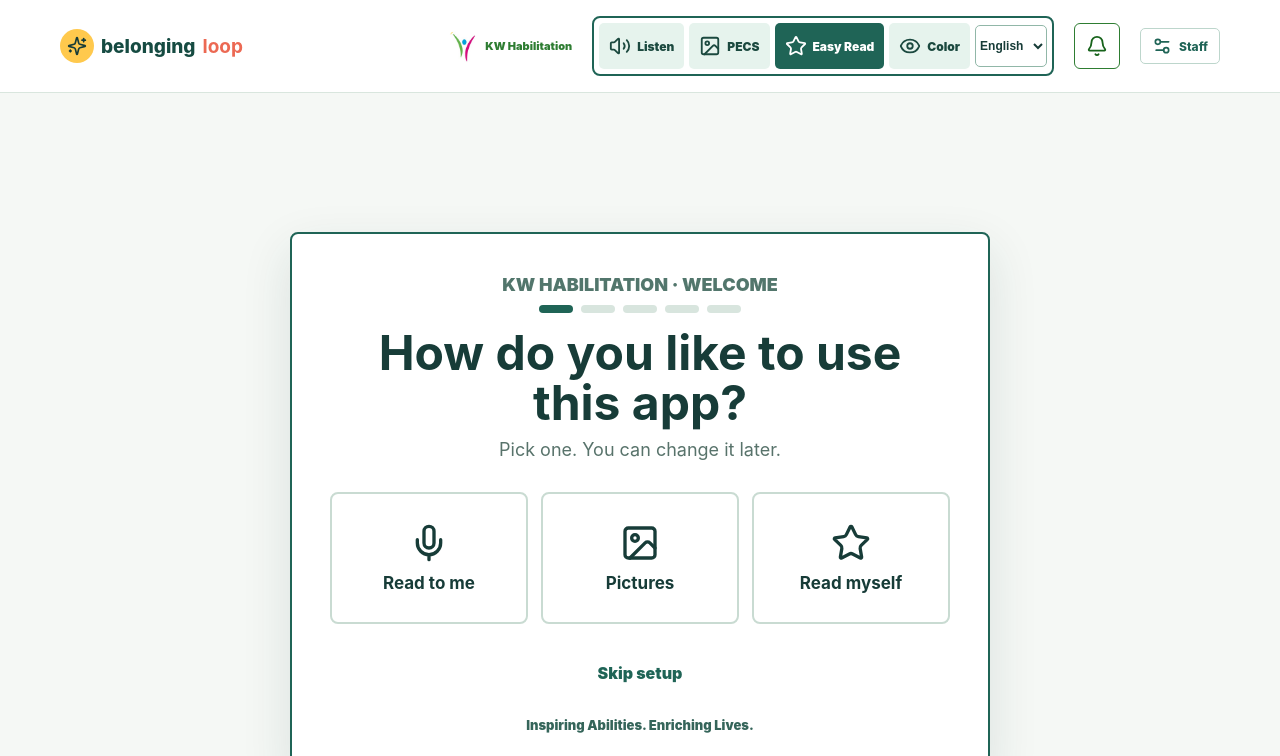
it: Belonging Loop accessible calendar › switches to PECS choices without requiring typing
Click the button "Skip setup" at (640, 673), box x1=592 y1=652 x2=688 y2=694
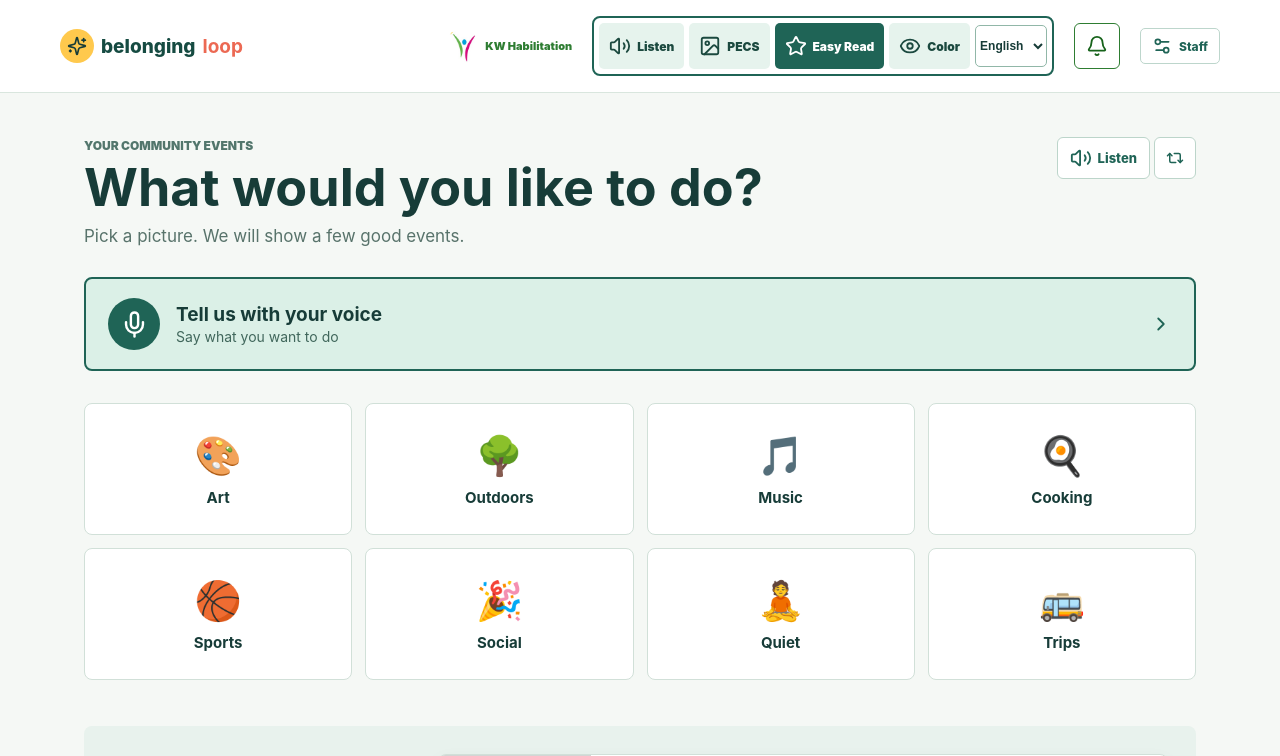
Click the button with aria-label "PECS mode" at (729, 46), box x1=689 y1=23 x2=770 y2=69
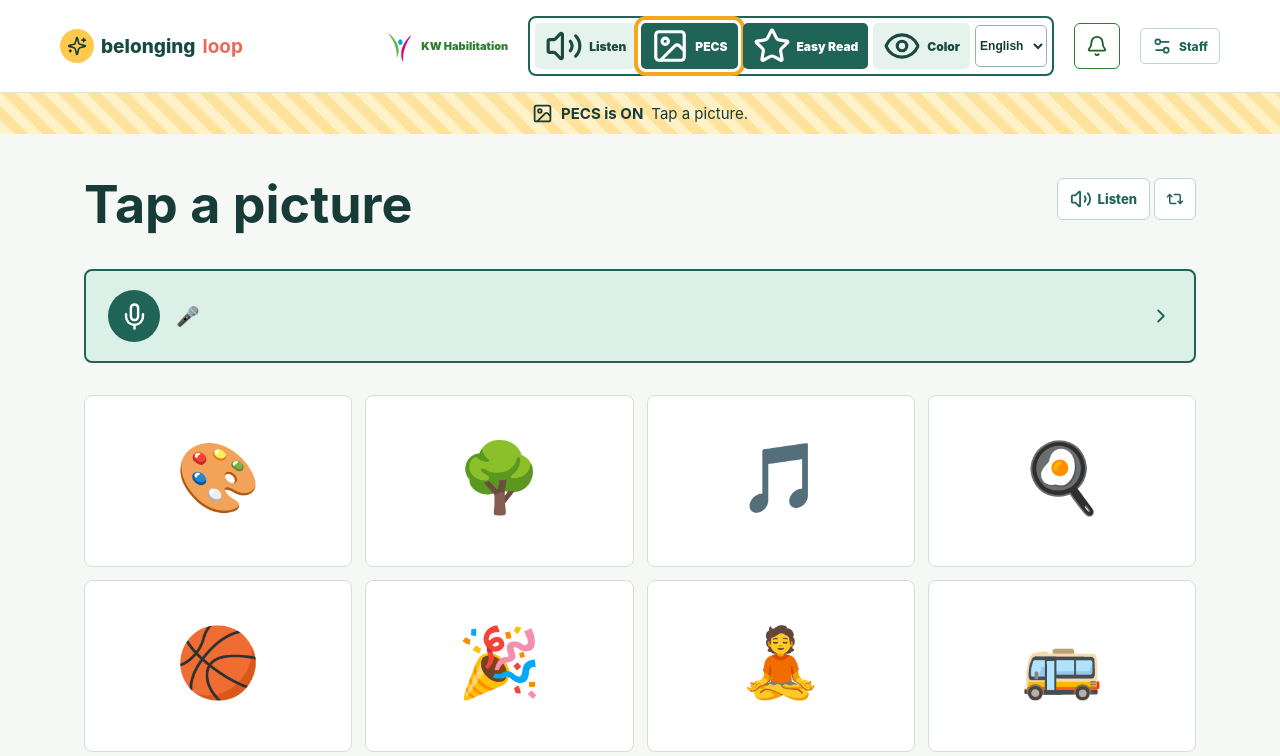
Now the button named "outdoors" is shown, box x1=365 y1=395 x2=634 y2=567
Now the text "PECS is ON" is shown, box x1=561 y1=104 x2=643 y2=123
Now the heading "Tap a picture" is shown, box x1=84 y1=178 x2=412 y2=232
